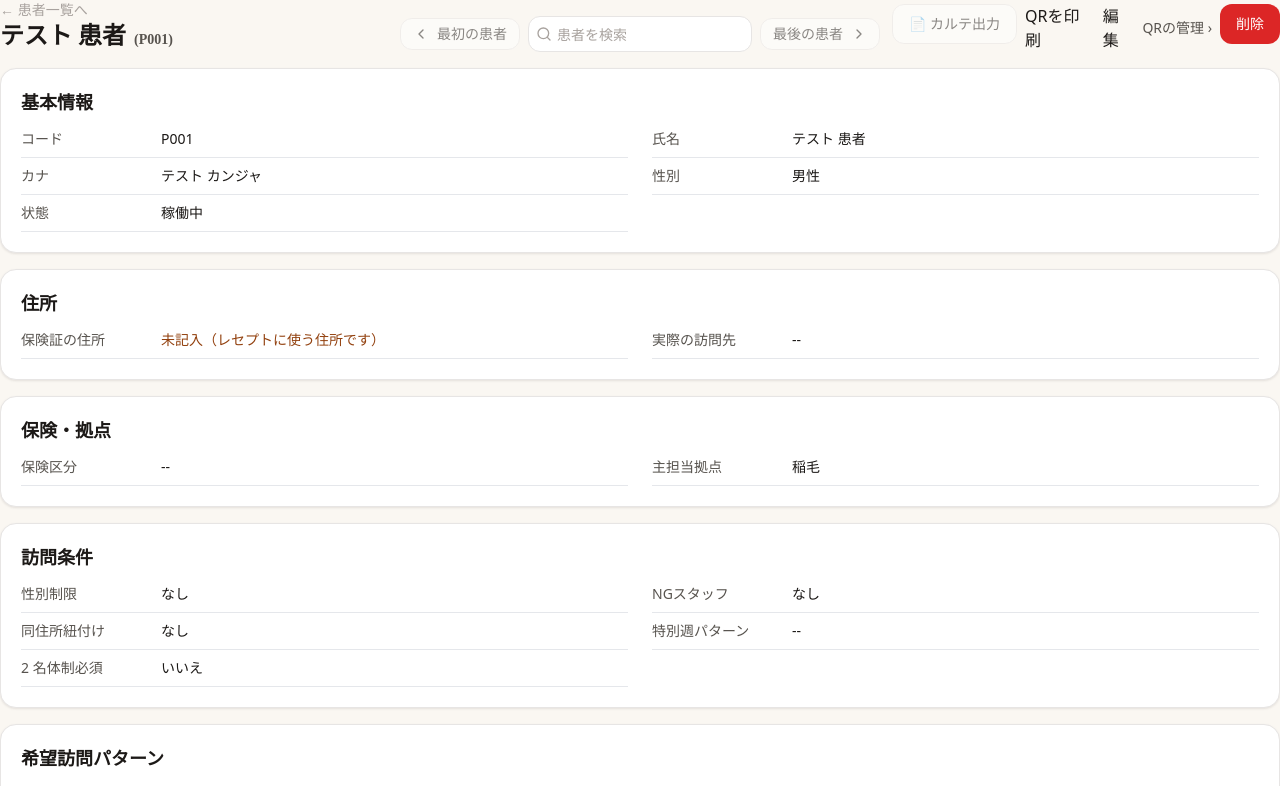
PatientDetailPage — W37 Phase 3-D › 12. 右上に QR の再発行ボタンが無く、「QRの管理 ›」でダイアログが開く
This screenshot has width=1280, height=786.
Check: the link "QRを印刷" is shown, box [1025,5,1080,51]
Click the button "QRの管理 ›" at (1177,28), box [1142,18,1212,38]
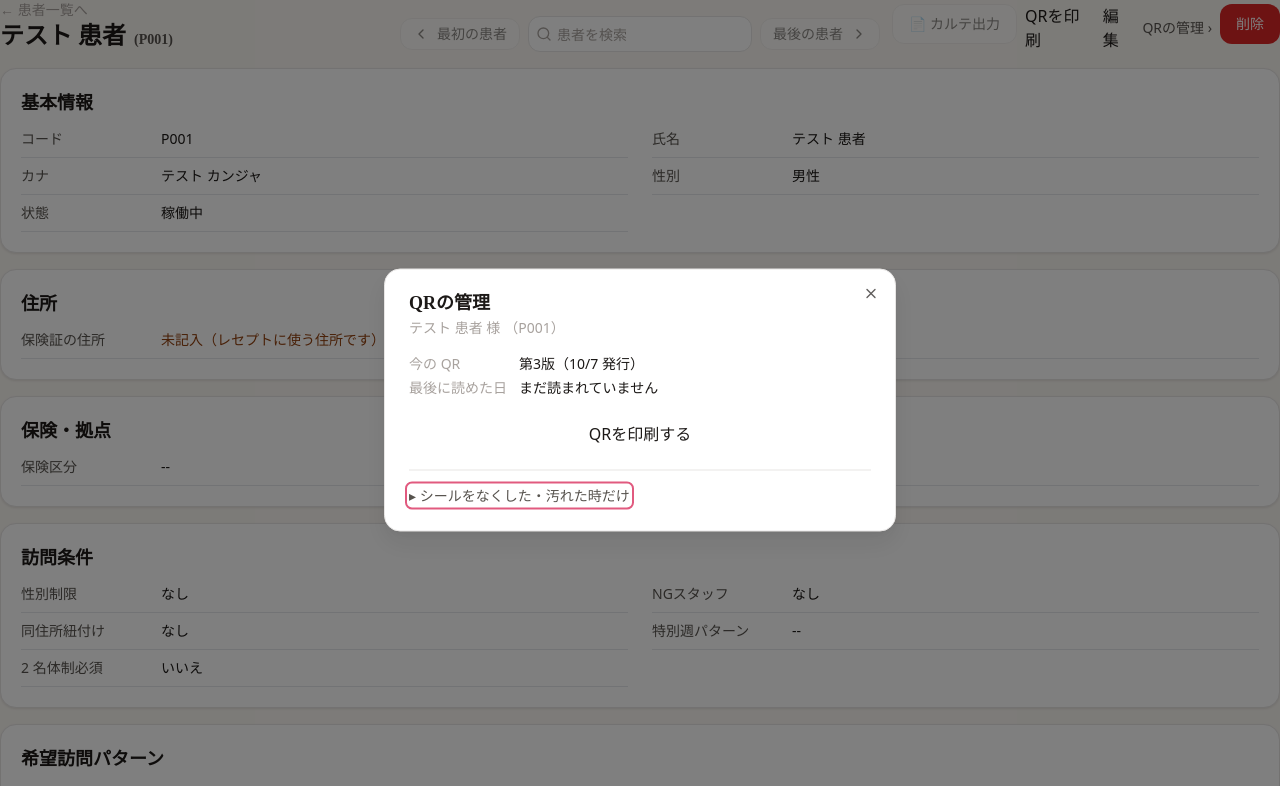
Check: the dialog with test id "qr-manage-dialog" is shown, box [384,268,896,532]
Check: the text with test id "qr-manage-version" reads "第3版（10/7 発行）", box [519,354,644,372]
